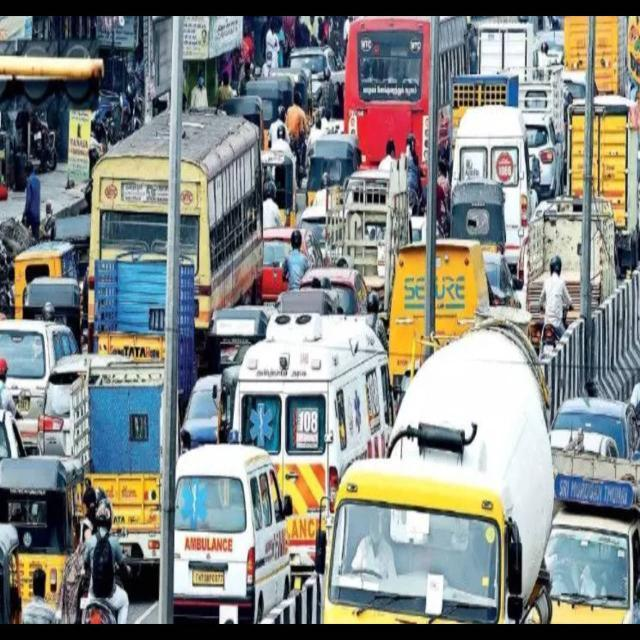Ambulance: (165, 441, 295, 626)
Bus: (82, 105, 267, 365), (339, 15, 477, 222)
bike: (64, 487, 135, 625)
car: (0, 315, 83, 451)
van: (34, 351, 168, 582)
